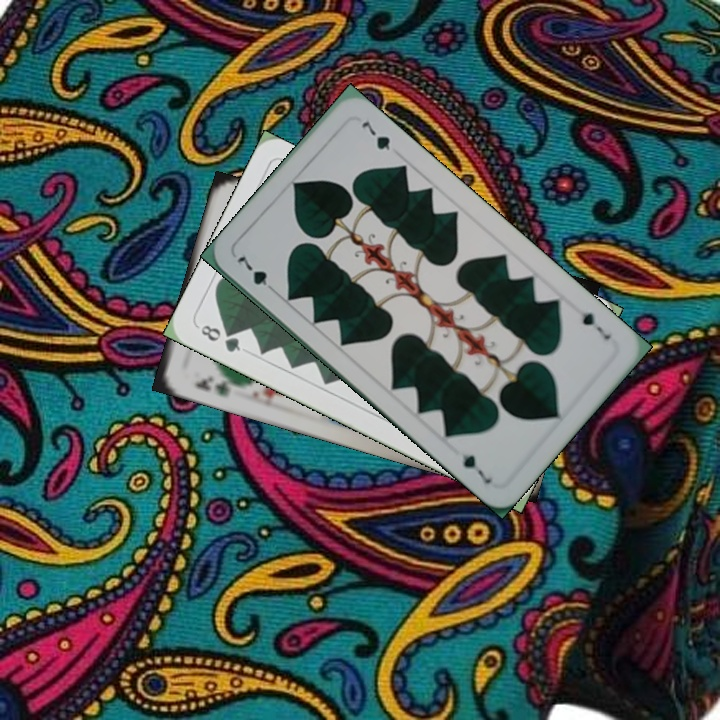G7: (232, 252, 280, 297), (578, 308, 614, 343)
G8: (196, 321, 244, 355)
GK: (190, 371, 240, 399)
